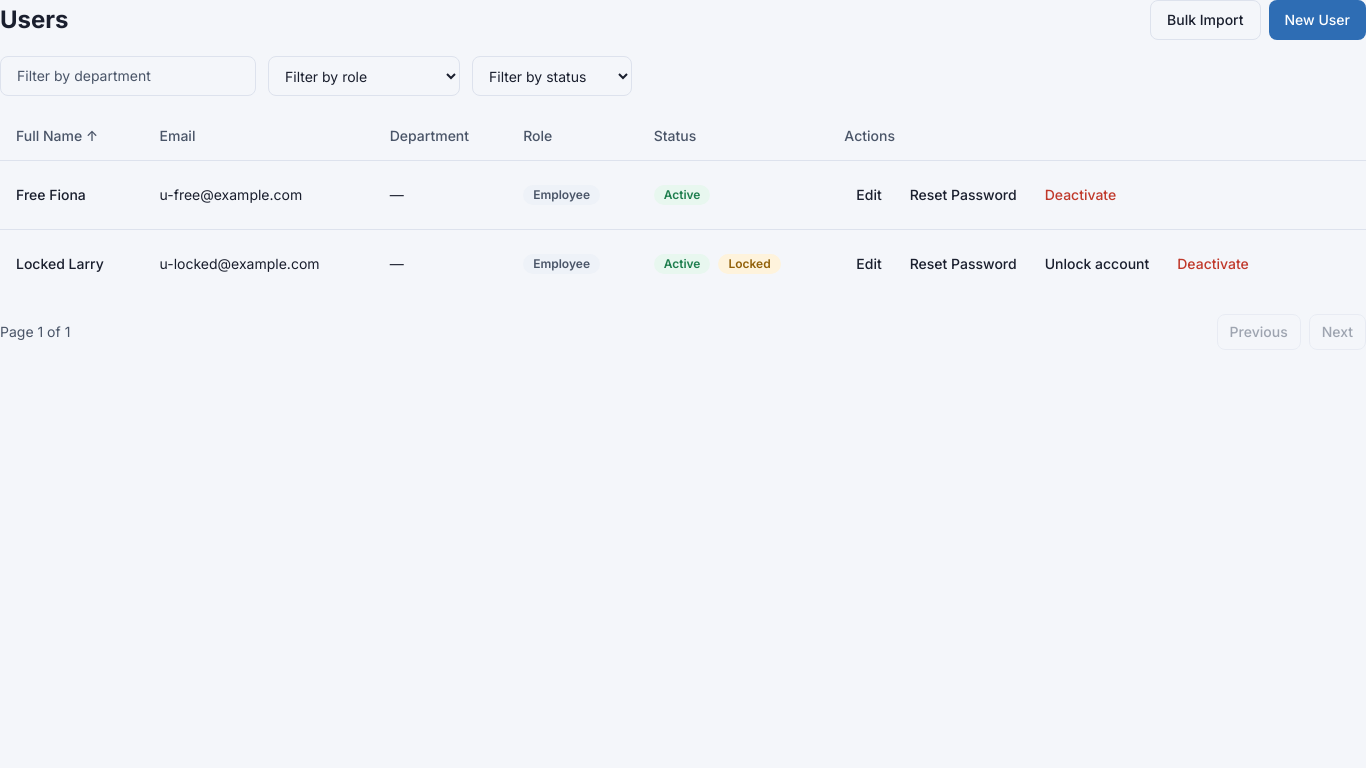
Test: UsersListPage reset password errors (ISS-226) › shows the temporary password on success
Expected: the text "Free Fiona" is shown, [0,160,144,229]
Click the button "Reset Password" in the row of "Free Fiona": x=963, y=194 [898,176,1029,212]
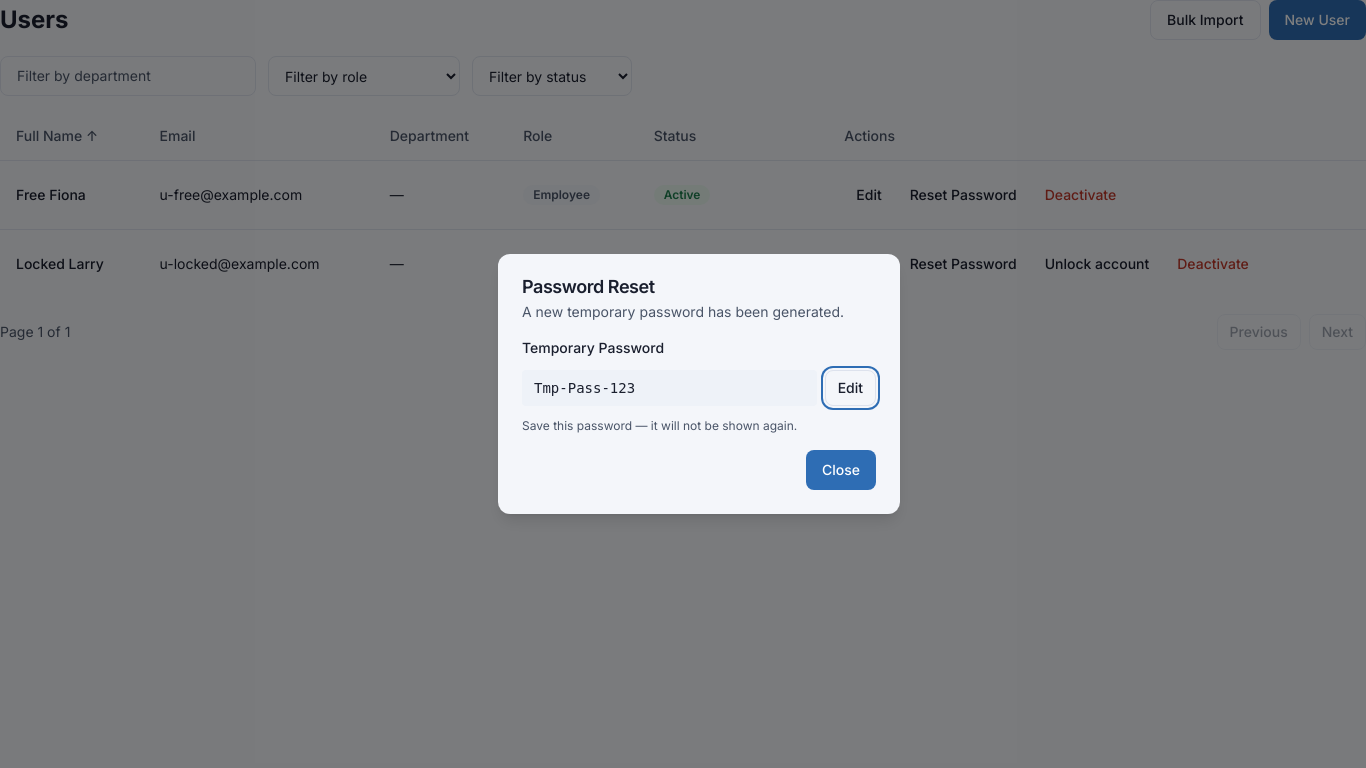
Result: the text "Tmp-Pass-123" is shown at [522,370,817,406]
